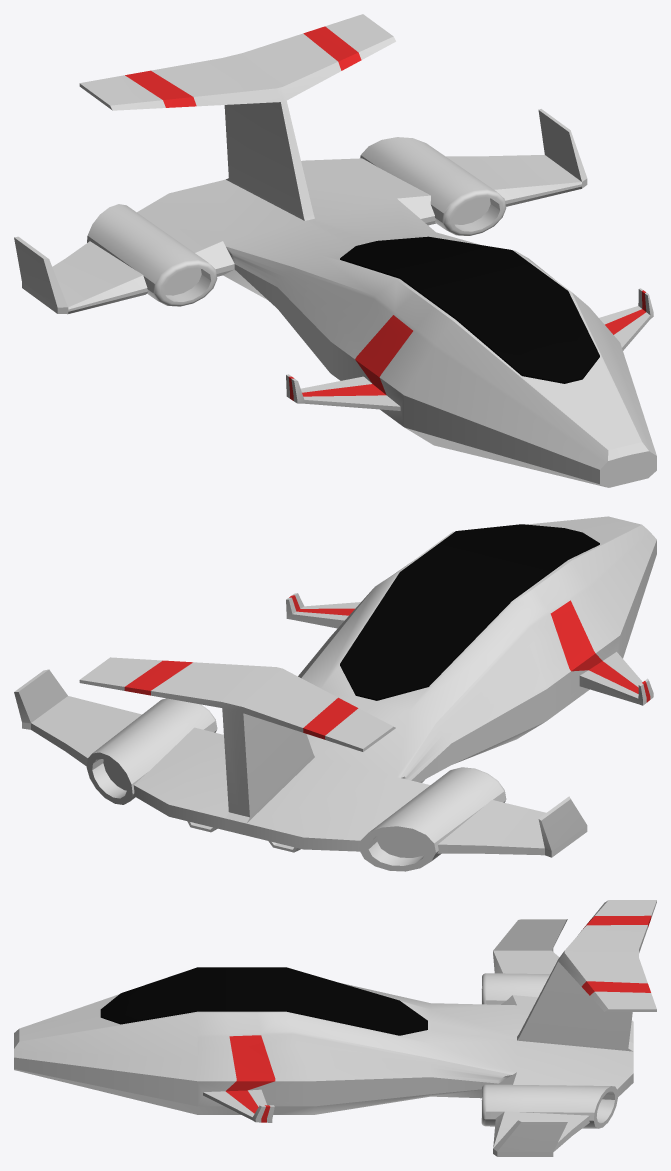
File: ship_1.fbx
The picture shows the model from 3 angles, top to bottom: view 1: azimuth 30°, elevation 25°; view 2: azimuth 150°, elevation 25°; view 3: azimuth 270°, elevation 25°; orthographic projection. The views are drawn at different scales.
Parts seen in each view (by area): view 1: ship_1; view 2: ship_1; view 3: ship_1.
Boxes of the visible parts, left/top/right/bottom form: ship_1: left=14, top=14, right=656, bottom=487; ship_1: left=14, top=516, right=656, bottom=871; ship_1: left=14, top=900, right=656, bottom=1156.
Bounding box in the file's own units: 978 × 309 × 1302.
